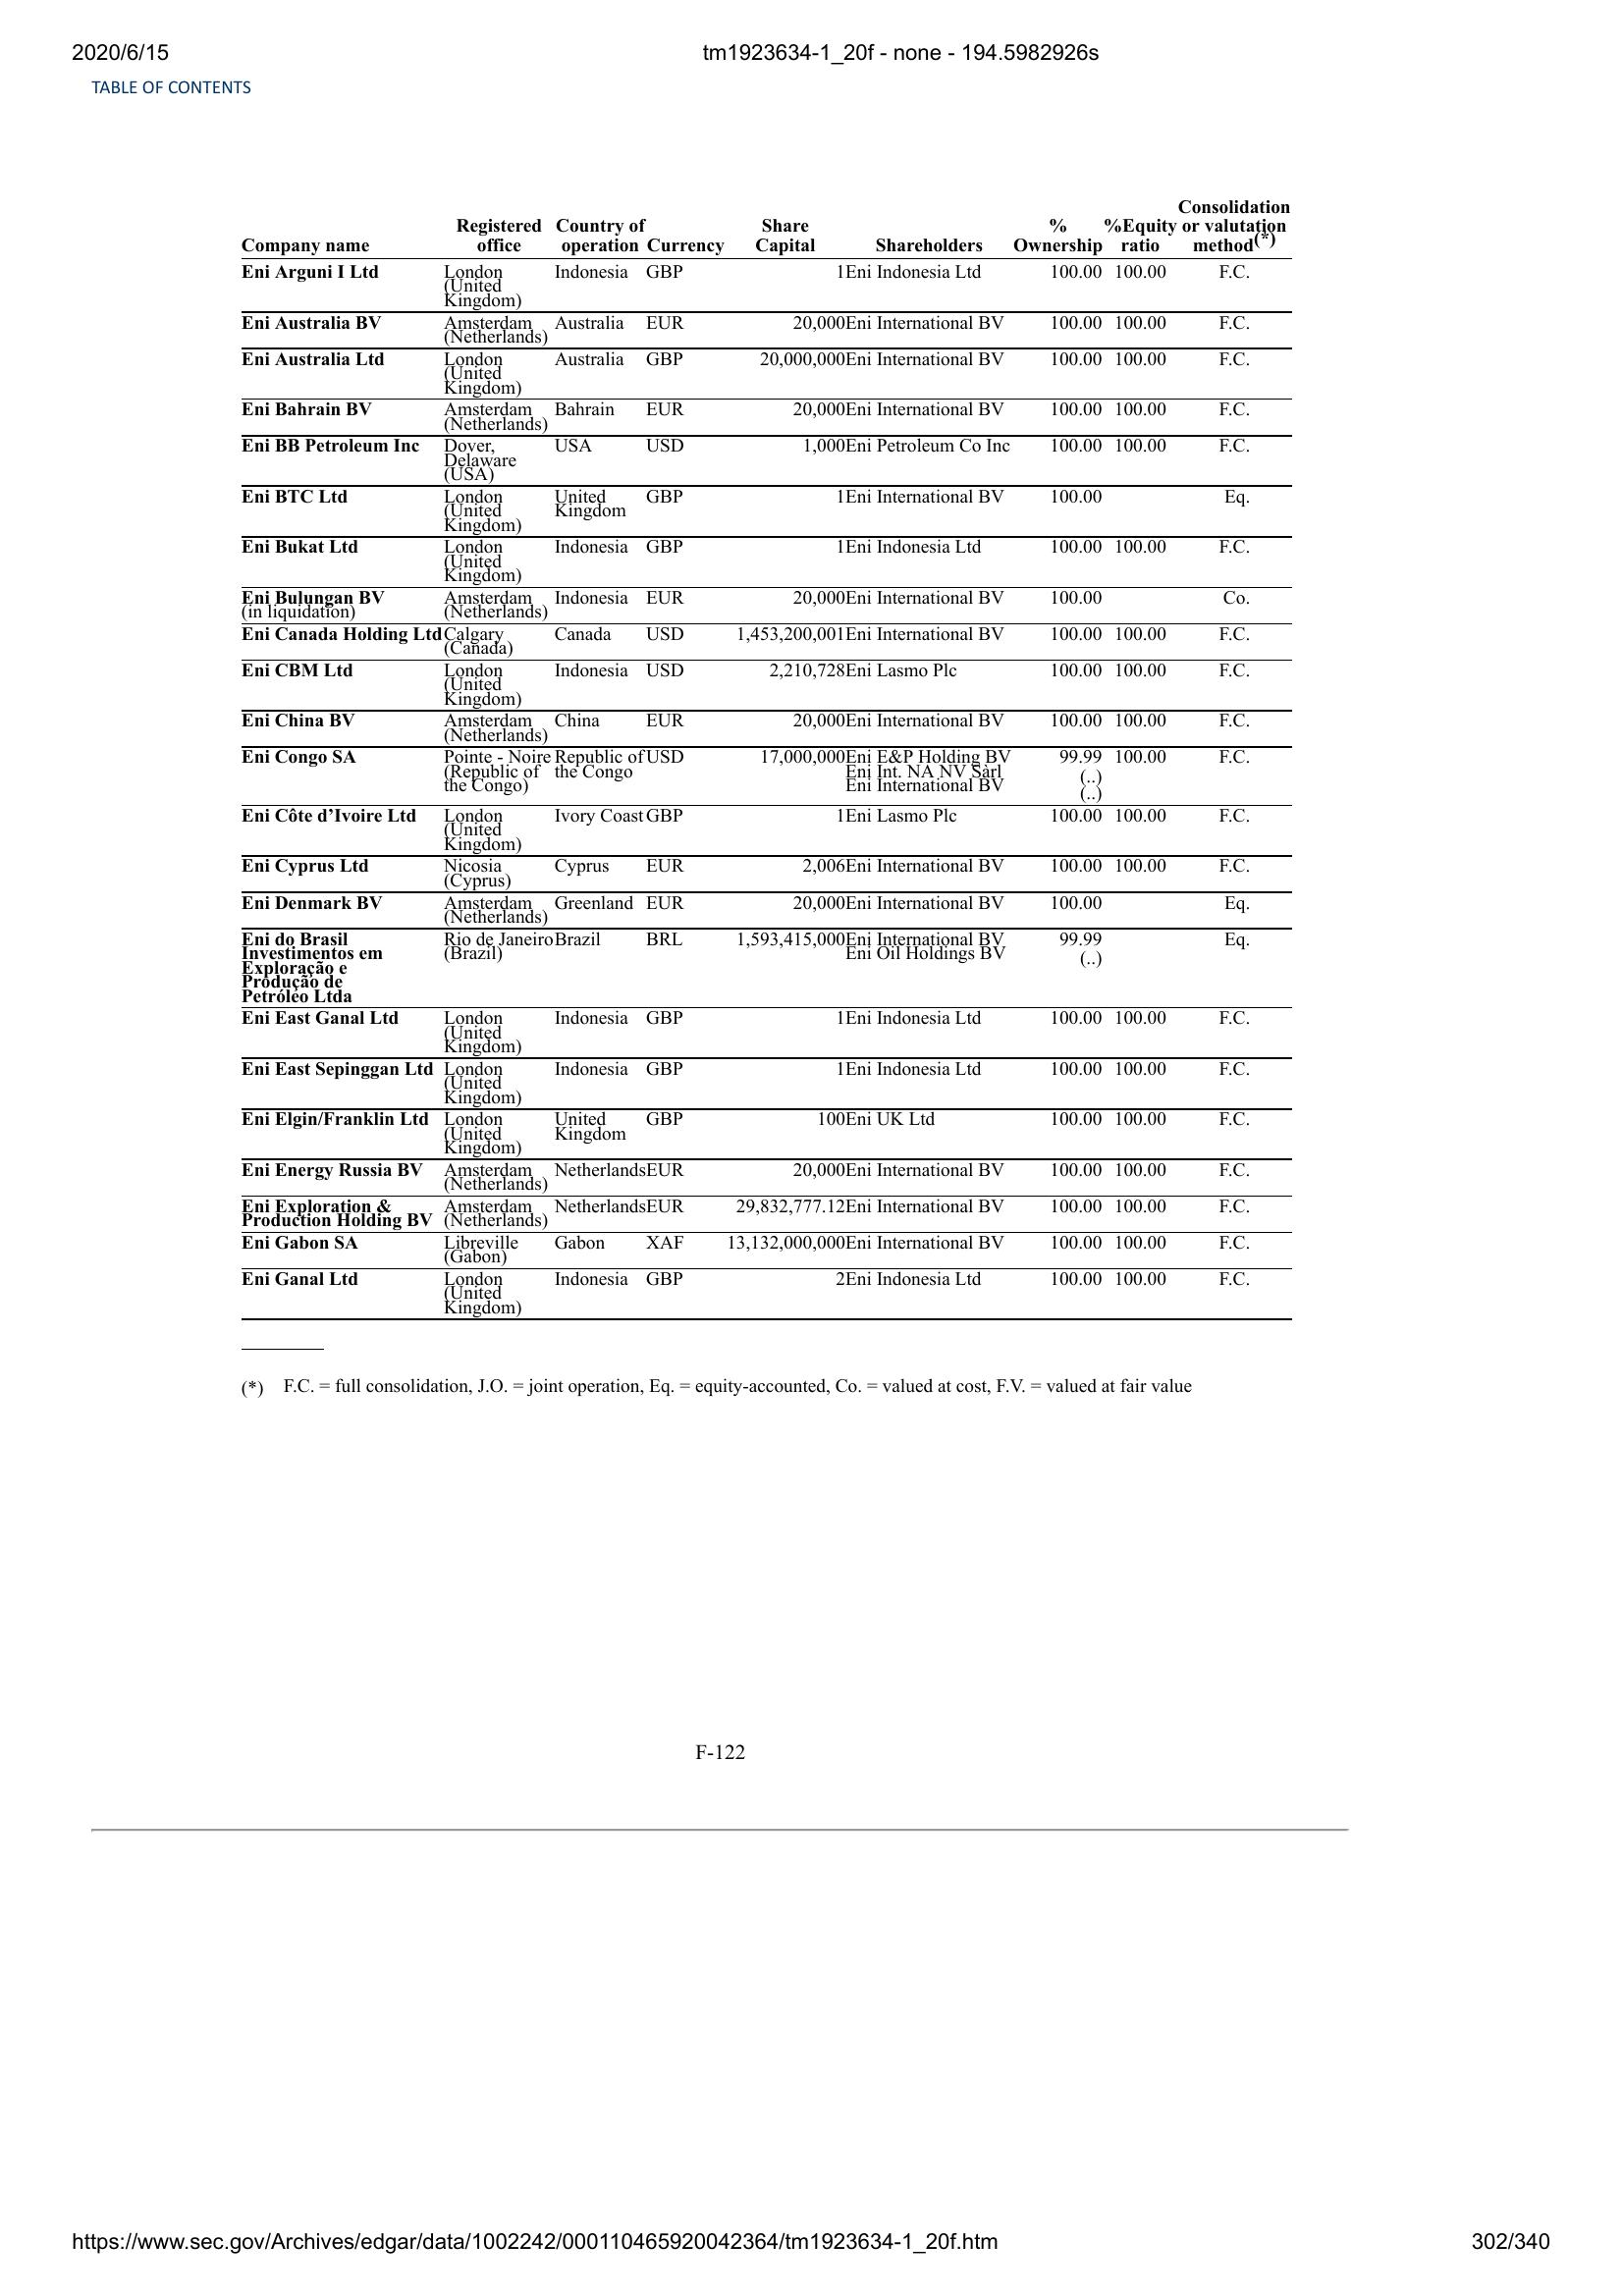table: (234, 195, 1302, 1329)
